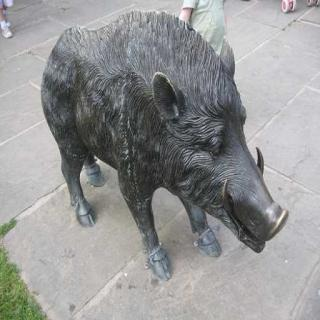Pig: (36, 13, 308, 302)
